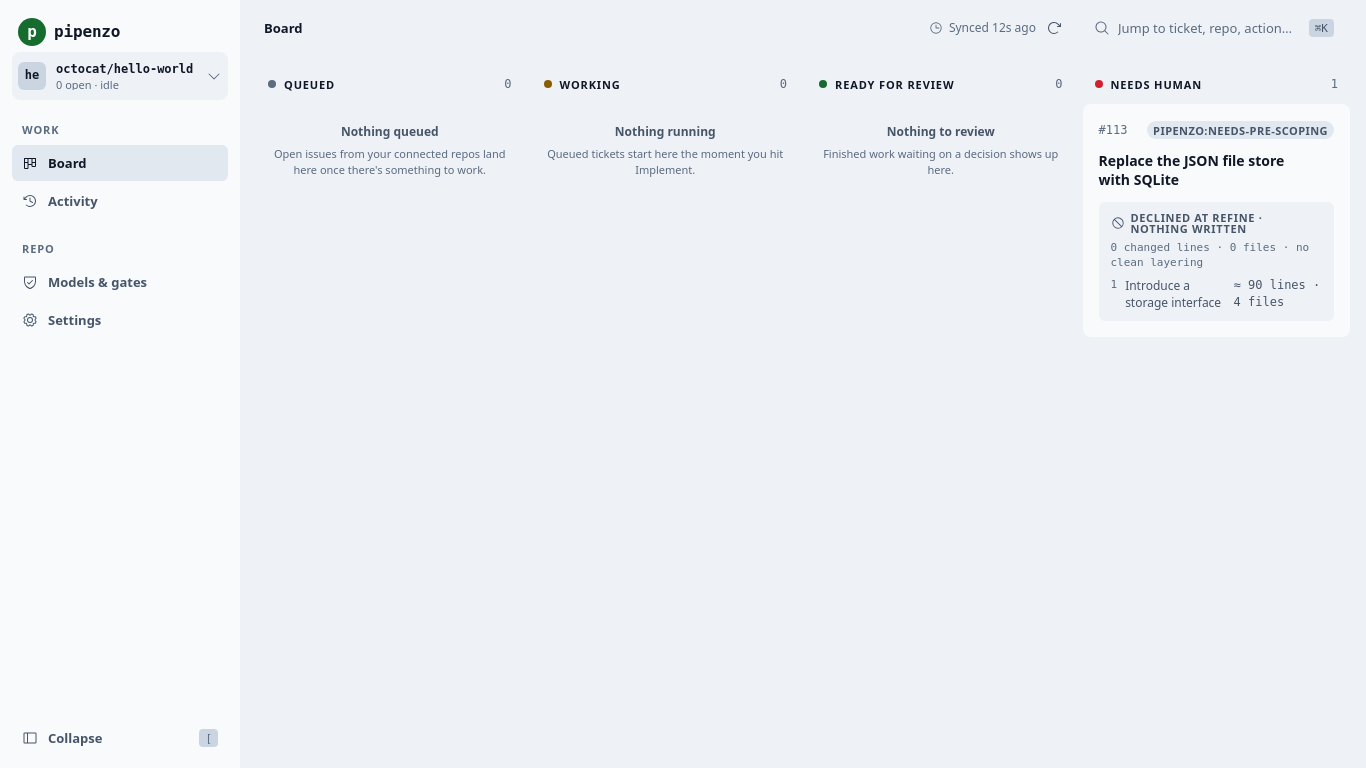
Scenario: PipenzoAppShell › TicketDetail (issue #341) › renders RefusalPanel with real data for a needs-pre-scoping ticket that carries a cached refusal
Click the text "Replace the JSON file store with SQLite". click: (1191, 170)
box: [1098,151,1284,189]
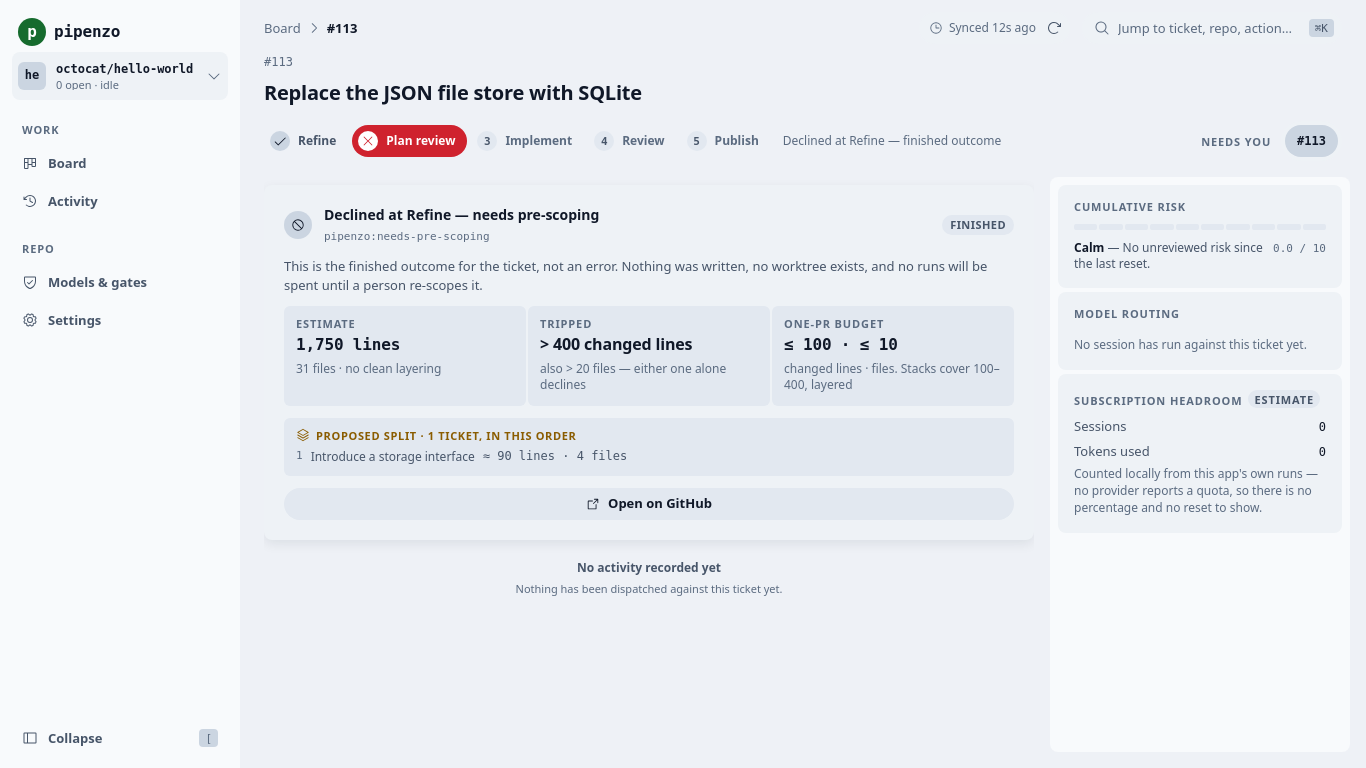
expect the text "Introduce a storage interface" is shown: met, box [311,448,475,465]
expect the text "Declined at Refine — needs pre-scoping" is shown: met, box [324,205,599,224]
expect the text "1,750 lines" is shown: met, box [296,335,400,354]
